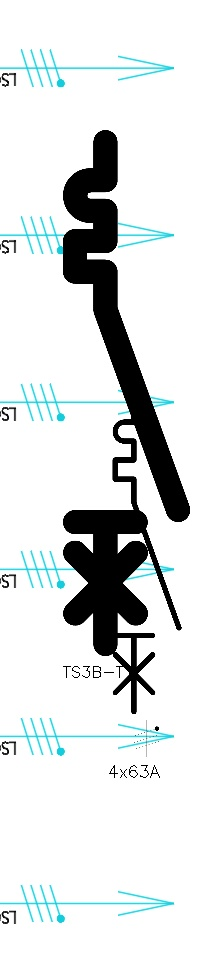interruptor_termomagnetico: (62, 129, 191, 657), (107, 390, 187, 719)
